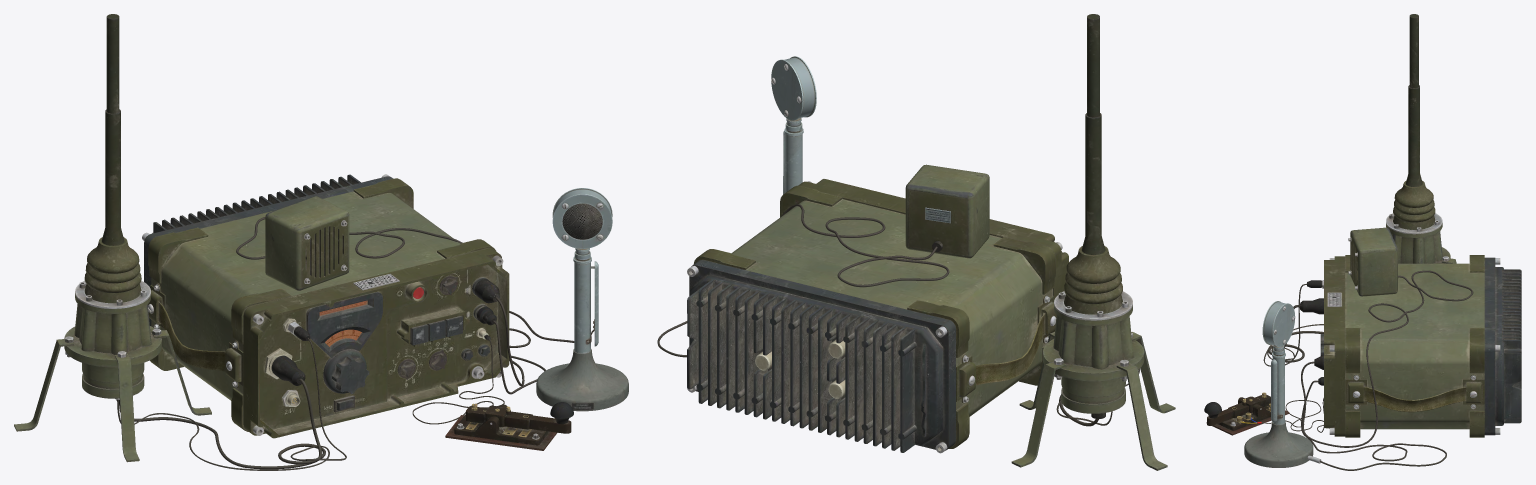
The model's file is vintage_radio_transceiver.glb.
3 renders of one model, left to right at view 1: azimuth 30°, elevation 25°; view 2: azimuth 150°, elevation 25°; view 3: azimuth 270°, elevation 25°, orthographic. The views are drawn at different scales.
Visible parts, largest first — view 1: vintage_radio_transceiver, vintage_radio_transceiver_antenna, vintage_radio_transceiver_microphone, vintage_radio_transceiver_speaker, vintage_radio_transceiver_cables, vintage_radio_transceiver_morse_key_base, vintage_radio_transceiver_morse_key_arm, vintage_radio_transceiver_dial, vintage_radio_transceiver_antenna_plug_a; view 2: vintage_radio_transceiver, vintage_radio_transceiver_antenna, vintage_radio_transceiver_speaker, vintage_radio_transceiver_microphone, vintage_radio_transceiver_cables; view 3: vintage_radio_transceiver, vintage_radio_transceiver_antenna, vintage_radio_transceiver_microphone, vintage_radio_transceiver_cables, vintage_radio_transceiver_speaker, vintage_radio_transceiver_morse_key_arm, vintage_radio_transceiver_morse_key_base.
Part boxes in pixels (left/top/right/bottom): vintage_radio_transceiver: left=142, top=174, right=509, bottom=438; vintage_radio_transceiver_antenna: left=14, top=14, right=211, bottom=462; vintage_radio_transceiver_microphone: left=536, top=188, right=628, bottom=411; vintage_radio_transceiver_speaker: left=265, top=196, right=349, bottom=290; vintage_radio_transceiver_cables: left=117, top=217, right=574, bottom=470; vintage_radio_transceiver_morse_key_base: left=445, top=404, right=557, bottom=450; vintage_radio_transceiver_morse_key_arm: left=466, top=402, right=573, bottom=433; vintage_radio_transceiver_dial: left=323, top=329, right=369, bottom=393; vintage_radio_transceiver_antenna_plug_a: left=271, top=355, right=305, bottom=385; vintage_radio_transceiver: left=687, top=179, right=1068, bottom=453; vintage_radio_transceiver_antenna: left=1011, top=14, right=1175, bottom=470; vintage_radio_transceiver_speaker: left=905, top=164, right=989, bottom=258; vintage_radio_transceiver_microphone: left=771, top=56, right=816, bottom=194; vintage_radio_transceiver_cables: left=657, top=204, right=1139, bottom=426; vintage_radio_transceiver: left=1324, top=255, right=1521, bottom=437; vintage_radio_transceiver_antenna: left=1386, top=14, right=1456, bottom=263; vintage_radio_transceiver_microphone: left=1244, top=301, right=1321, bottom=467; vintage_radio_transceiver_cables: left=1261, top=270, right=1473, bottom=470; vintage_radio_transceiver_speaker: left=1348, top=227, right=1397, bottom=296; vintage_radio_transceiver_morse_key_arm: left=1204, top=392, right=1270, bottom=425; vintage_radio_transceiver_morse_key_base: left=1206, top=397, right=1289, bottom=435.
Bounding box in the file's own units: 0.574 × 0.4344 × 0.4131.
2 materials, 2 textured.
